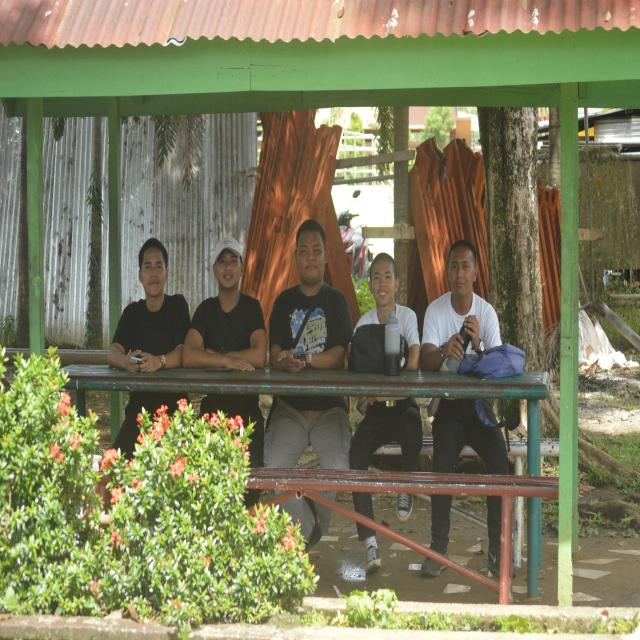person: (270, 220, 352, 374), (183, 237, 266, 371), (108, 238, 190, 372), (421, 240, 501, 371), (356, 253, 420, 370)
